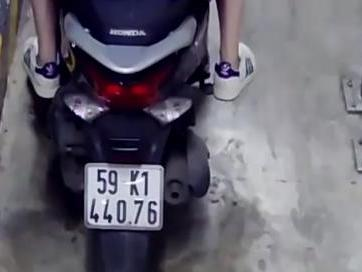num_plate: (82, 160, 164, 231)
